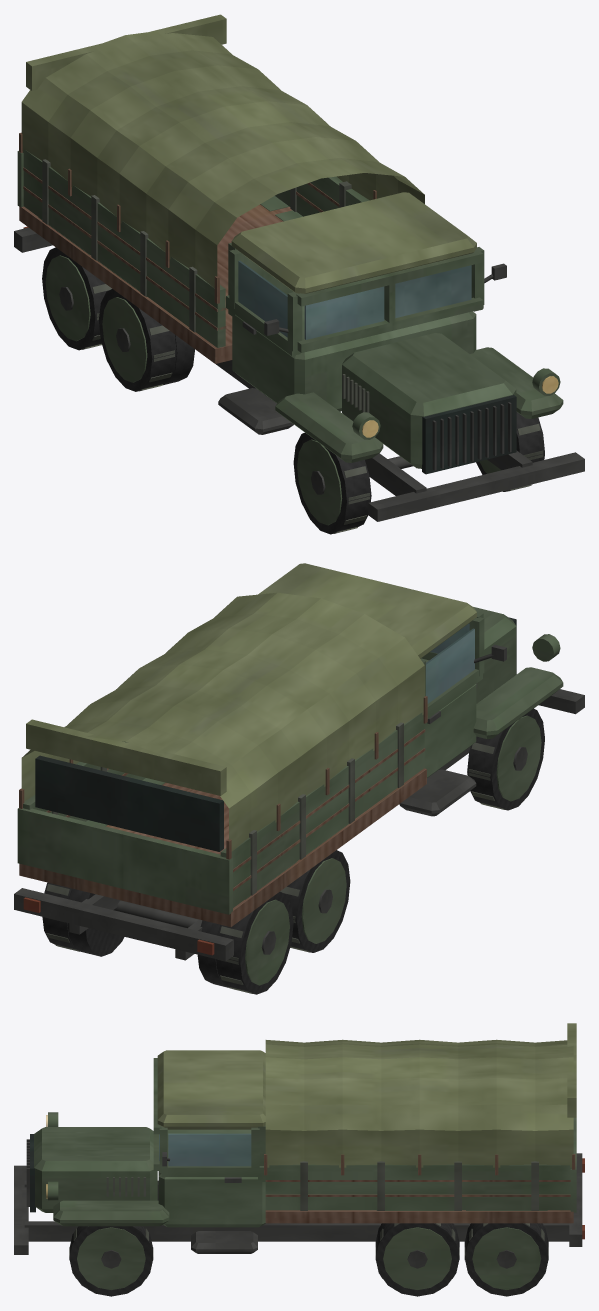
File: gmc-cckw-cargo.glb
3 renders of one model, top to bottom at view 1: azimuth 30°, elevation 25°; view 2: azimuth 150°, elevation 25°; view 3: azimuth 270°, elevation 25°, orthographic. The views are drawn at different scales.
Visible parts, largest first — view 1: GMC CCKW | Planenwagen; view 2: GMC CCKW | Planenwagen; view 3: GMC CCKW | Planenwagen.
Boxes of the visible parts, x1,y1,x2,y2 form: GMC CCKW | Planenwagen: [14, 14, 584, 534]; GMC CCKW | Planenwagen: [14, 563, 584, 994]; GMC CCKW | Planenwagen: [14, 1023, 584, 1296].
Size of the model in its own units: 2.54 by 2.59 by 6.66.
Materials: 1 (1 with a texture image).
